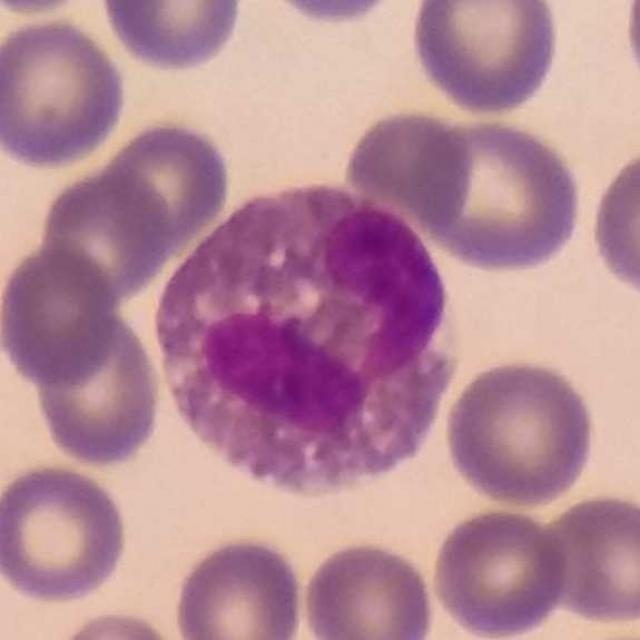Eosinophil: (146, 175, 474, 498)
RBC: (408, 112, 588, 276), (440, 354, 600, 510), (28, 312, 166, 469), (0, 13, 131, 170), (428, 503, 574, 640), (36, 161, 174, 305), (0, 460, 132, 606), (405, 0, 566, 118), (94, 116, 234, 249), (0, 238, 122, 389), (338, 104, 476, 223), (531, 488, 640, 628), (170, 532, 308, 640), (297, 536, 439, 640), (97, 0, 247, 75), (585, 137, 640, 308), (48, 605, 192, 640), (255, 0, 408, 27), (619, 0, 640, 110), (0, 0, 100, 18)
